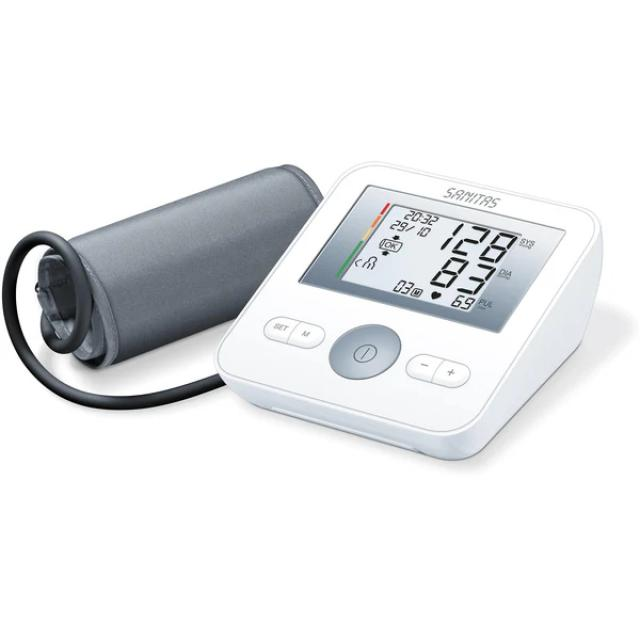dia: (423, 247, 504, 305)
pul: (438, 287, 483, 320)
ssd: (338, 194, 521, 321)
sys: (430, 212, 525, 271)
